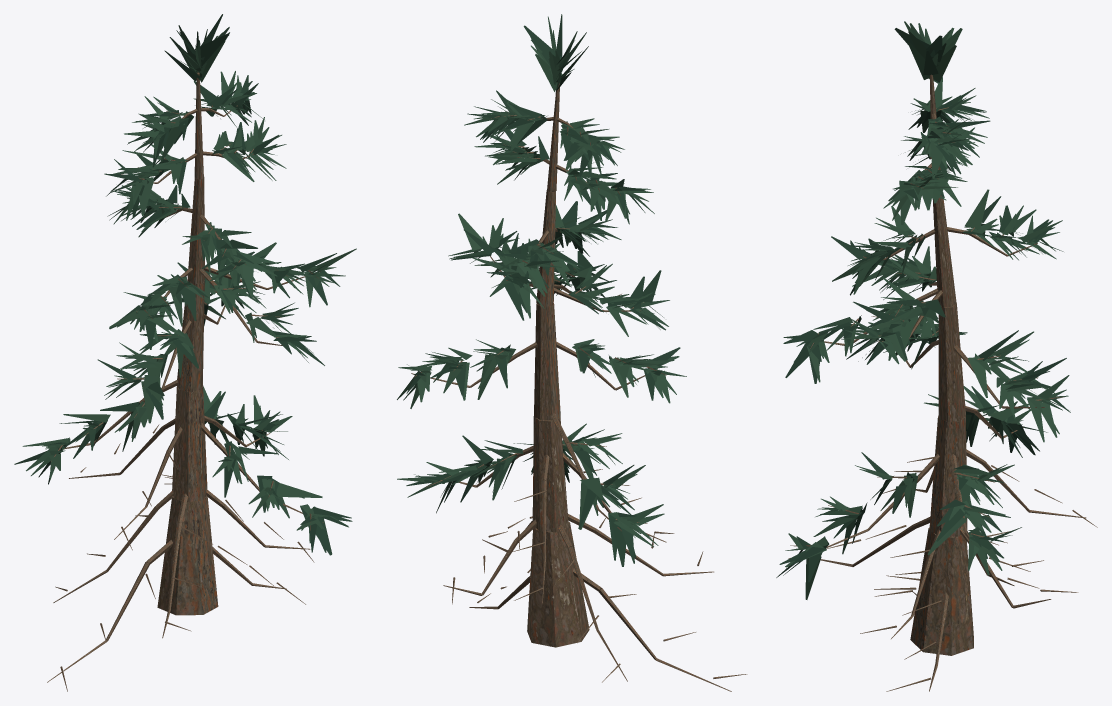
The model's file is detail_spruce_old_far.glb.
3 renders of one model, left to right at view 1: azimuth 30°, elevation 25°; view 2: azimuth 150°, elevation 25°; view 3: azimuth 270°, elevation 25°, orthographic. The views are drawn at different scales.
Visible parts, largest first — view 1: Cone; view 2: Cone; view 3: Cone.
Part boxes in pixels (box(x1,y1,x2,y2)): Cone: box(14, 14, 356, 691); Cone: box(397, 14, 747, 691); Cone: box(776, 21, 1097, 691).
Bounding box in the file's own units: 5.19 × 10.56 × 4.69.
Materials: 3 (1 with a texture image).
